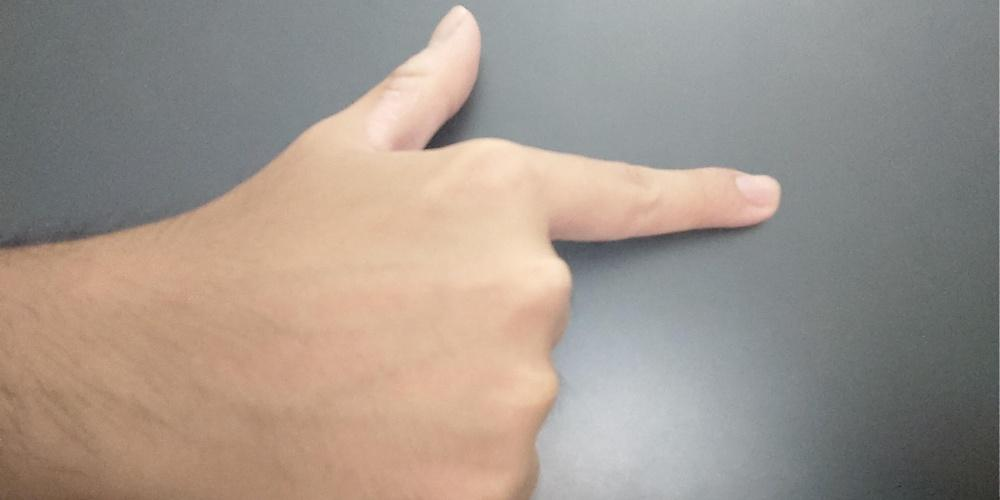g: (0, 0, 782, 499)
